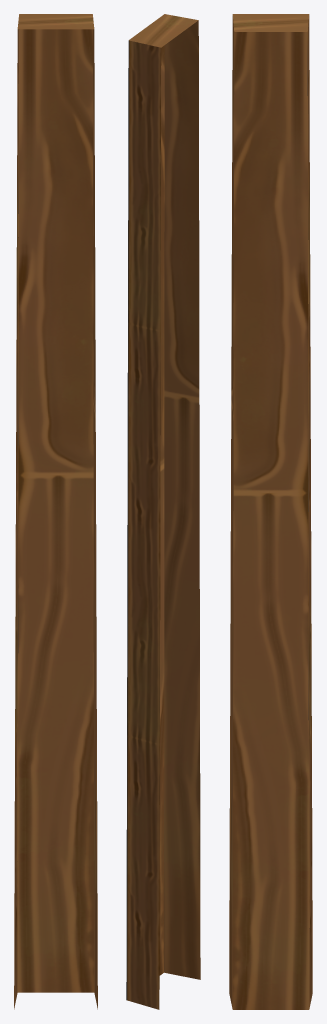
The picture shows the model from 3 angles, left to right: view 1: azimuth 90°, elevation 25°; view 2: azimuth 150°, elevation 25°; view 3: azimuth 270°, elevation 25°; orthographic projection. The views are drawn at different scales.
Visible parts, largest first — view 1: Cube.1532; view 2: Cube.1532; view 3: Cube.1532.
Part boxes in pixels (x1=…): Cube.1532: x1=14, y1=14, x2=97, y2=1009; Cube.1532: x1=126, y1=14, x2=200, y2=1009; Cube.1532: x1=229, y1=14, x2=312, y2=1009.
Size of the model in its own units: 28.73 by 759 by 58.83.
1 material, 1 textured.
